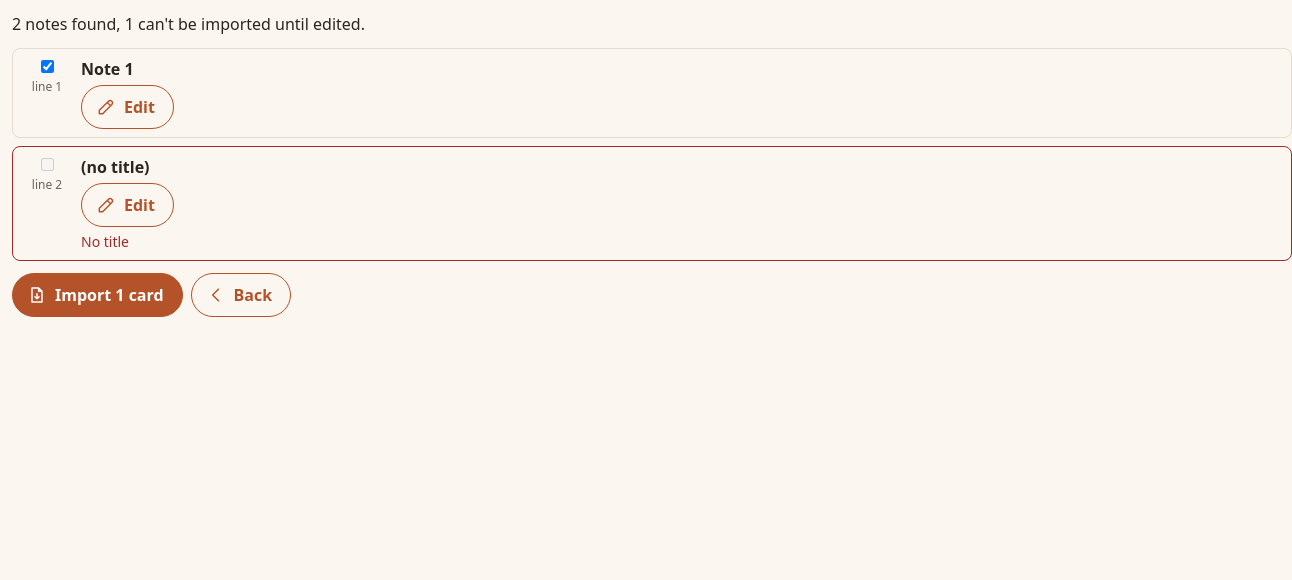
Scenario: ImportPreview (D189) › shows why an invalid row can't be imported and ticks it once the edit fixes it
expect the text "2 notes found, 1 can't be imported until edited." is shown: met, box [12,13,365,35]
expect the text "No title" is shown: met, box [81,232,129,251]
Click the button "Edit" below "(no title)" at (127, 205), box [81,183,174,227]
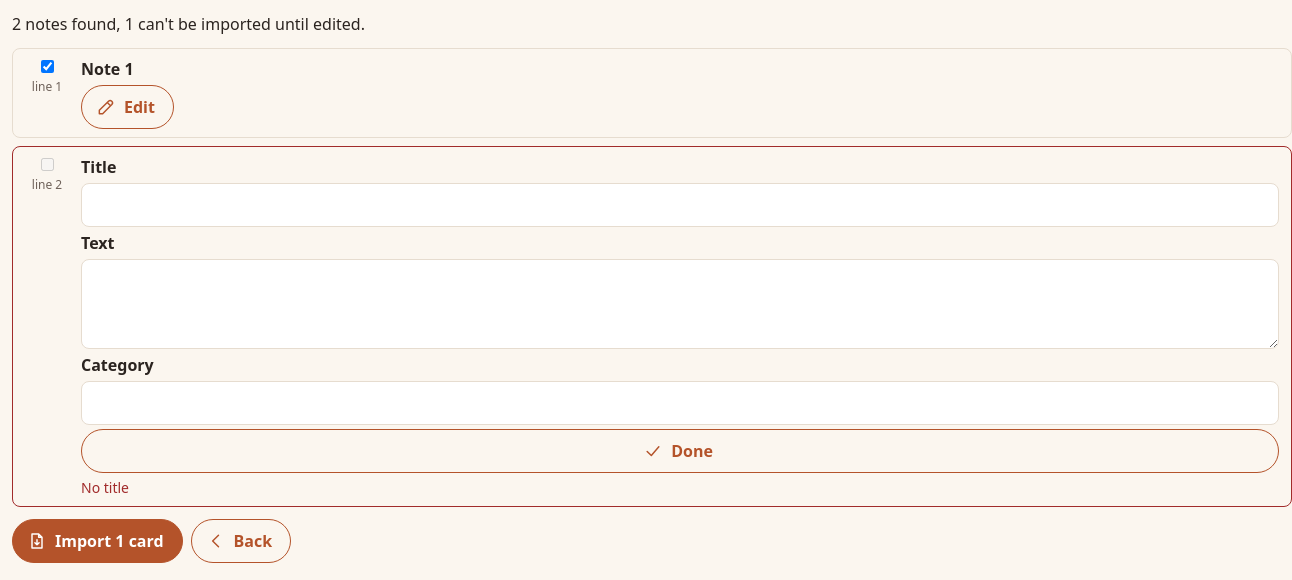
Type "Fixed" into the field named "Title, line 2" at (680, 205), box [81,183,1279,227]
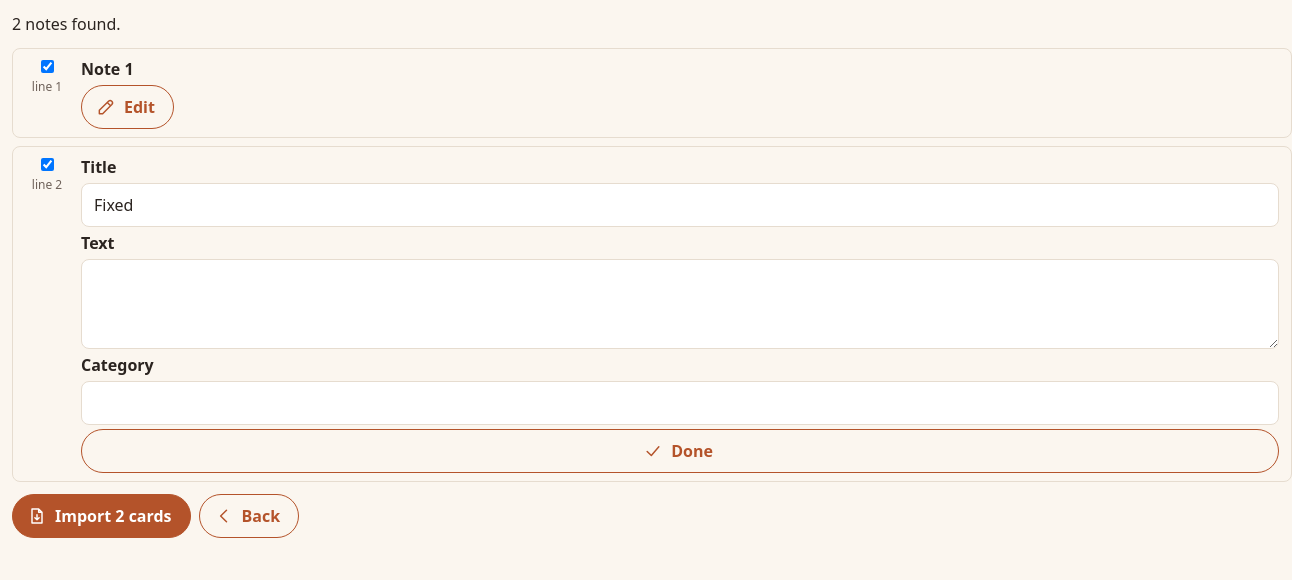
expect the button "Import 2 cards" is enabled: met, box [12,494,191,538]
expect the text "No title" is gone: met
expect the checkbox named "Import line 2" is checked: met, box [41,158,54,171]
